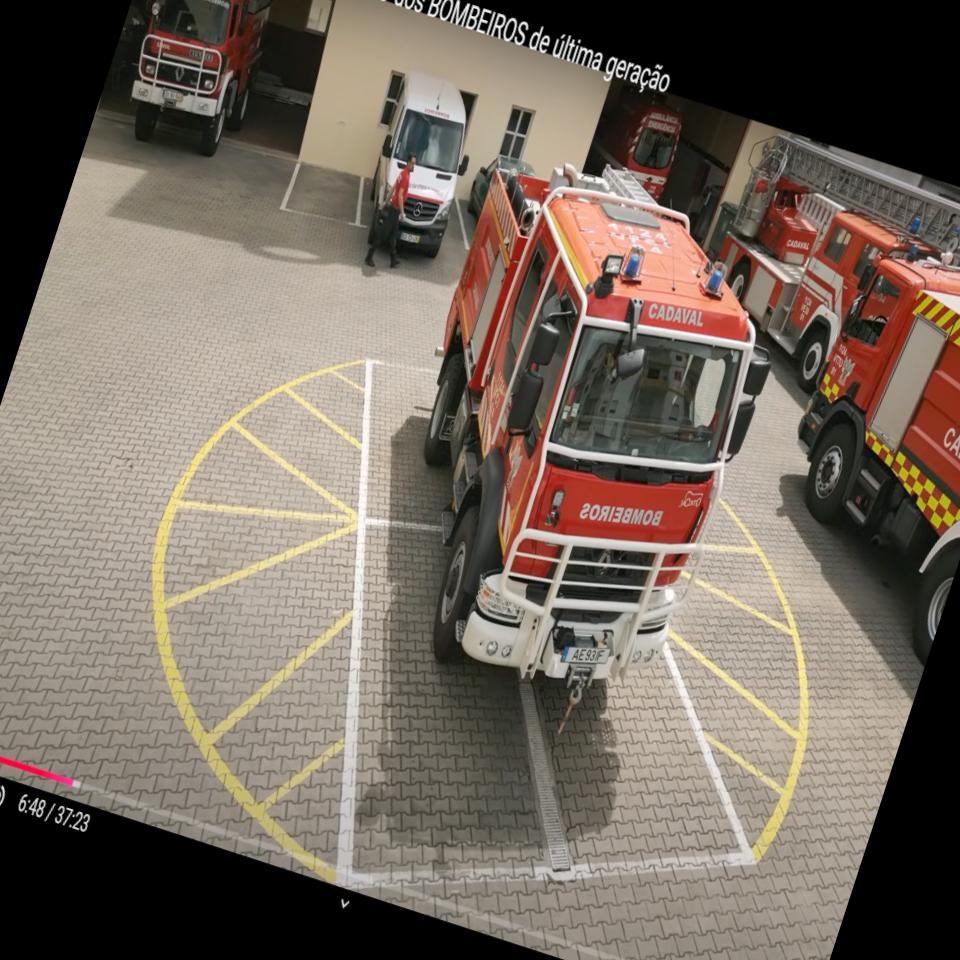viatura: (339, 122, 822, 736), (742, 215, 960, 663), (105, 0, 295, 161)
